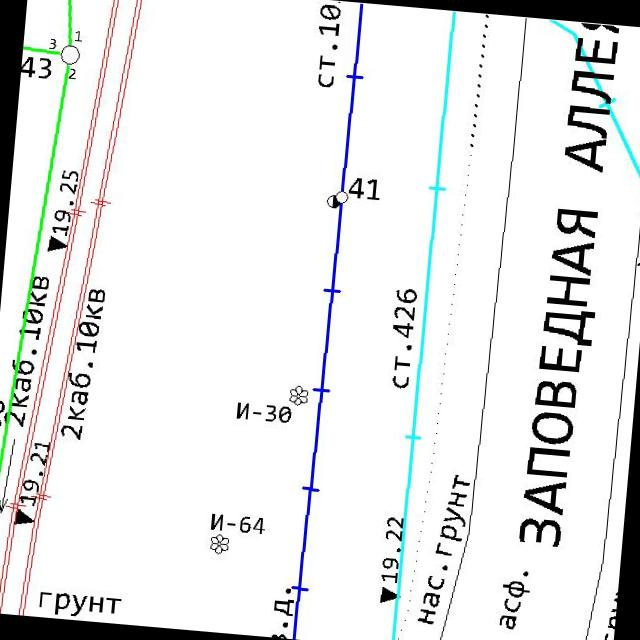asphalt: (496, 566, 534, 632)
bushes: (287, 383, 310, 408), (208, 532, 230, 556)
mark: (377, 583, 402, 606), (44, 234, 69, 254), (12, 506, 37, 526)
well: (57, 42, 82, 68), (334, 188, 350, 205)
